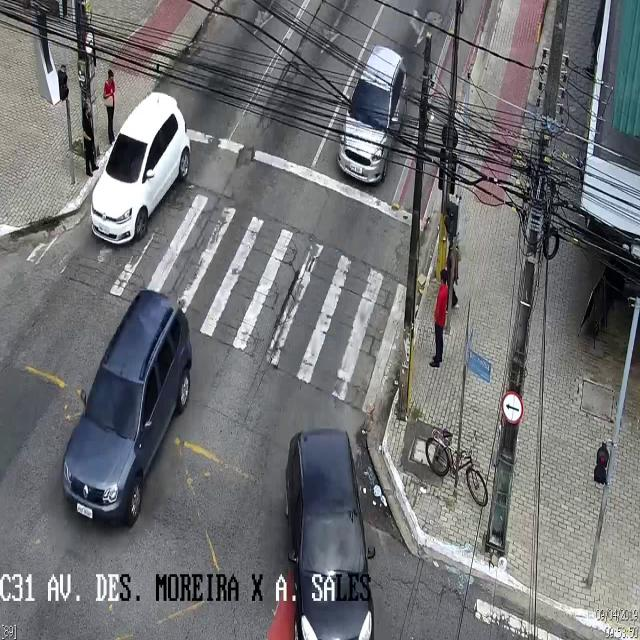Car: (61, 290, 192, 534), (283, 428, 377, 639), (91, 92, 194, 241), (338, 42, 408, 189)
